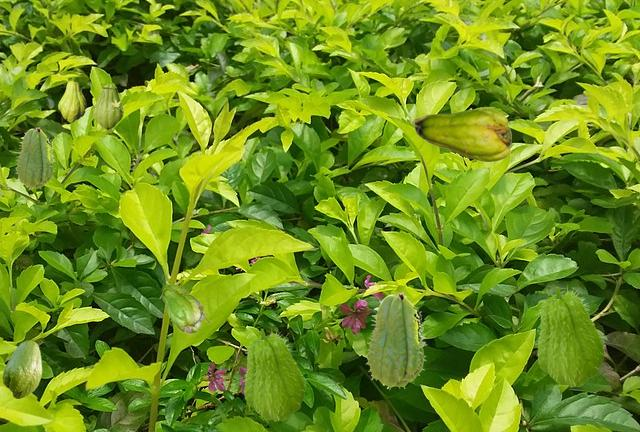sayote: (535, 285, 605, 386), (242, 327, 306, 420), (365, 292, 426, 389), (410, 108, 510, 161), (15, 127, 54, 189), (159, 284, 208, 333), (1, 340, 41, 398), (93, 84, 125, 129), (58, 76, 85, 121)
